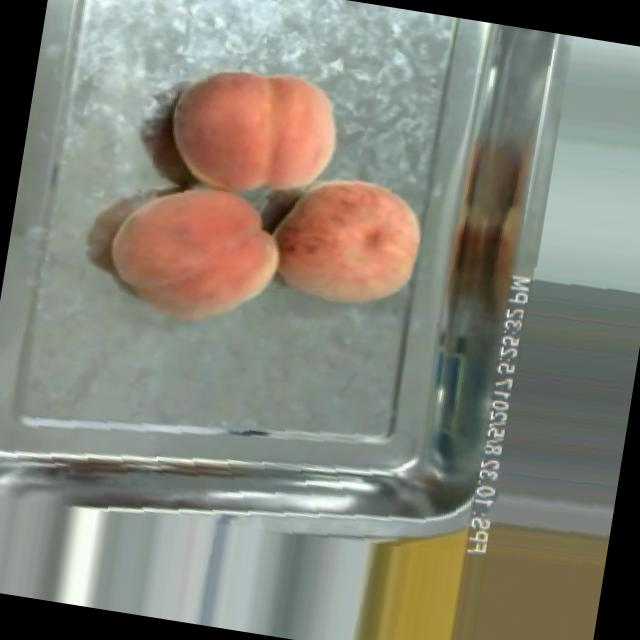Fruit: (94, 164, 296, 344), (157, 49, 350, 212), (257, 160, 434, 325), (446, 489, 613, 640), (341, 488, 476, 640)
